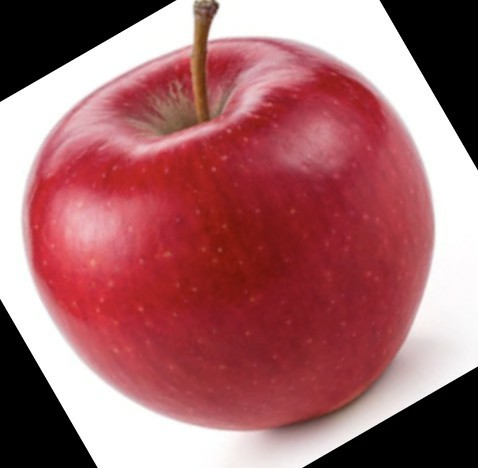fresh_apple: (23, 36, 435, 427)
